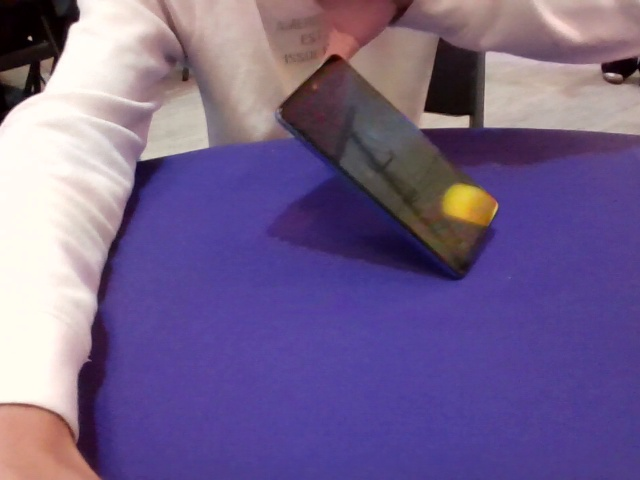celular: (275, 55, 497, 278)
